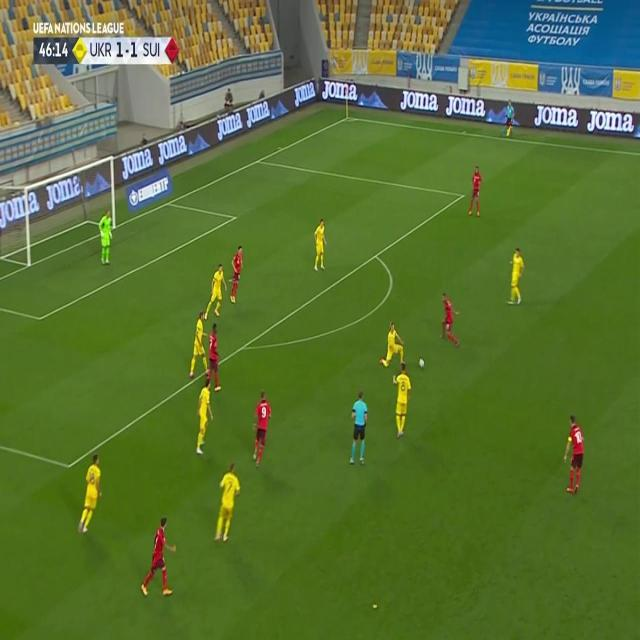ball: (418, 356, 424, 368)
player: (140, 515, 178, 600), (214, 460, 242, 542), (78, 453, 104, 535), (561, 412, 585, 494), (250, 390, 272, 468), (194, 378, 215, 456), (348, 388, 368, 466), (393, 359, 412, 439), (378, 320, 406, 374), (202, 263, 226, 322), (188, 310, 208, 378), (438, 292, 460, 348), (206, 320, 222, 396), (506, 245, 526, 305), (228, 244, 244, 305), (466, 163, 484, 217), (312, 217, 328, 272), (98, 208, 113, 265), (502, 100, 516, 138)
